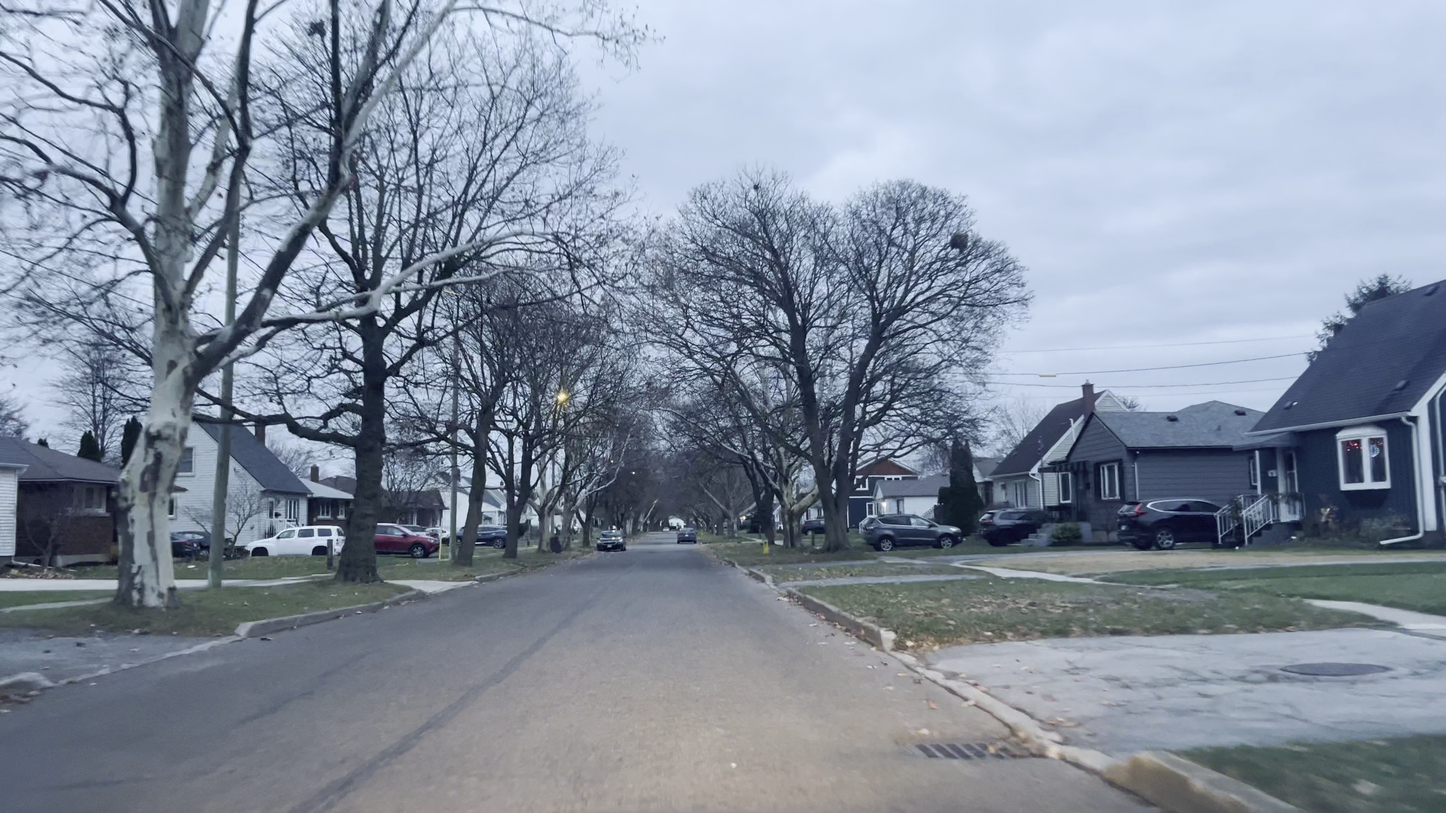cracks: (355, 709, 445, 779), (516, 617, 568, 670)
